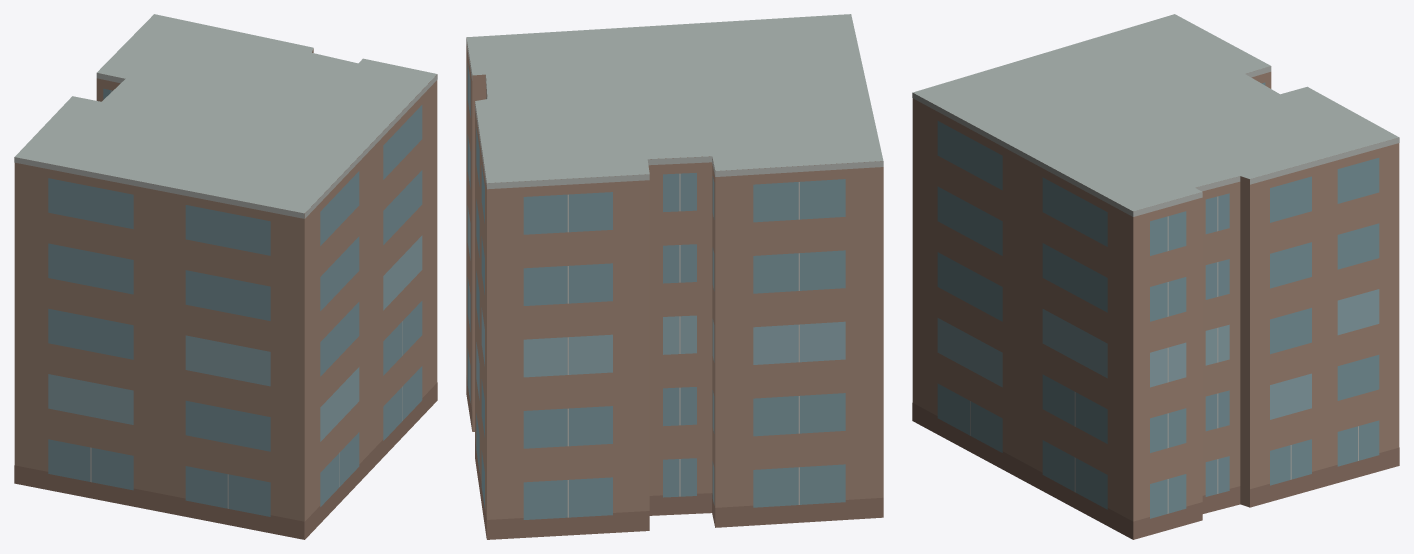
Rendered from survey-upis-32782016.glb.
3 views of the same model, side by side, from view 1: azimuth 30°, elevation 25°; view 2: azimuth 150°, elevation 25°; view 3: azimuth 270°, elevation 25° (orthographic). The views are drawn at different scales.
Visible parts, largest first — view 1: survey-upis-32782016.tmp; view 2: survey-upis-32782016.tmp; view 3: survey-upis-32782016.tmp.
Boxes of the visible parts, x1=… form: survey-upis-32782016.tmp: x1=14, y1=14, x2=437, y2=539; survey-upis-32782016.tmp: x1=466, y1=14, x2=883, y2=539; survey-upis-32782016.tmp: x1=912, y1=14, x2=1399, y2=539.
Bounding box in the file's own units: 18.58 × 14.4 × 19.36.
